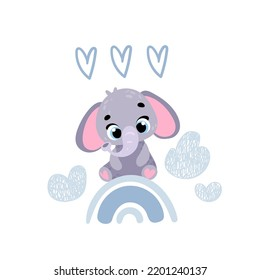elephant: (74, 86, 183, 182)
heart: (73, 43, 99, 80), (144, 44, 170, 79), (109, 45, 135, 78)
